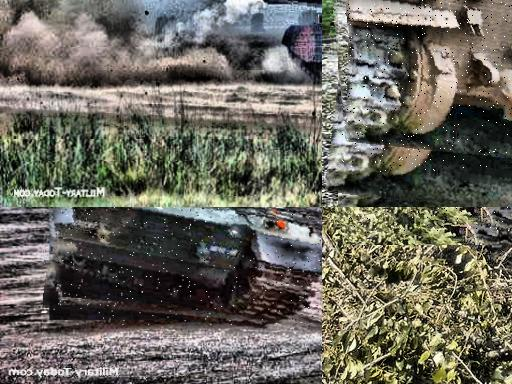tanks: (55, 208, 323, 326), (343, 1, 512, 153), (284, 17, 323, 81), (288, 1, 323, 6)
